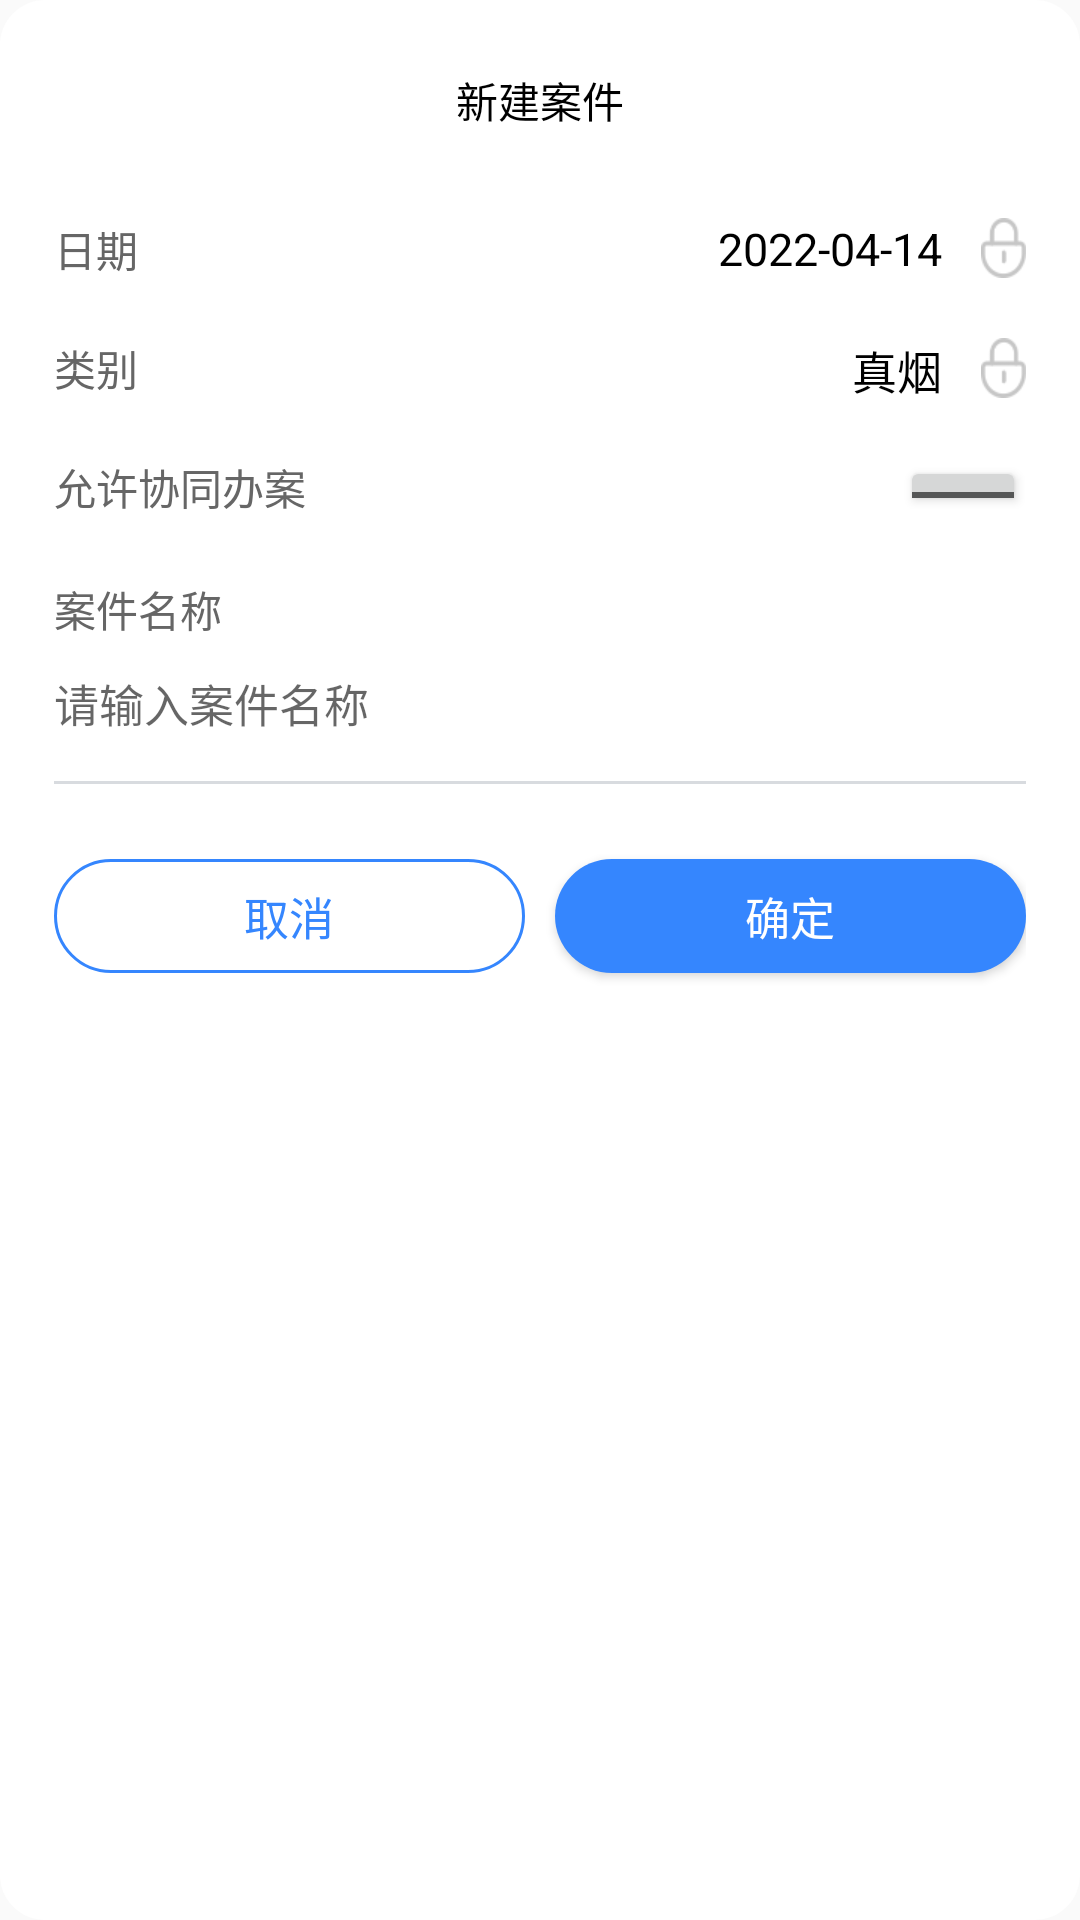

Icons on this 1080w x 1920h Android screen, each with the point to tap as [x,y]:
lock: [1003,248], [1003,368]
